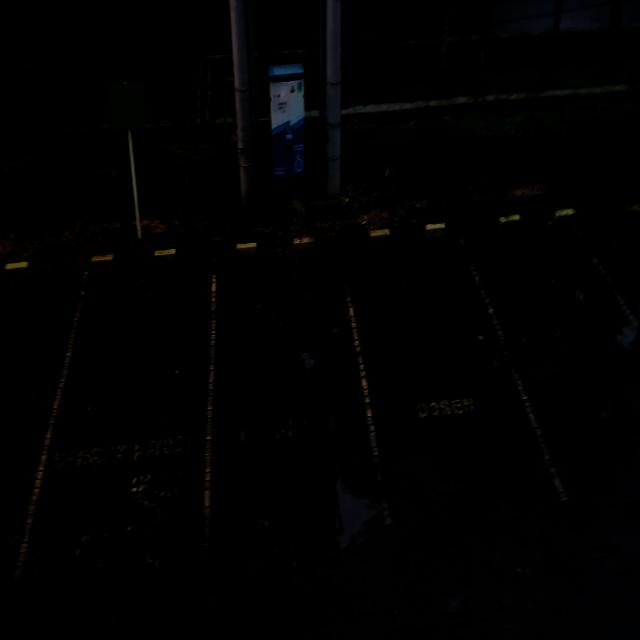empty: (206, 242, 382, 566), (45, 255, 216, 575), (353, 226, 527, 533), (495, 208, 638, 510), (1, 258, 62, 582)
